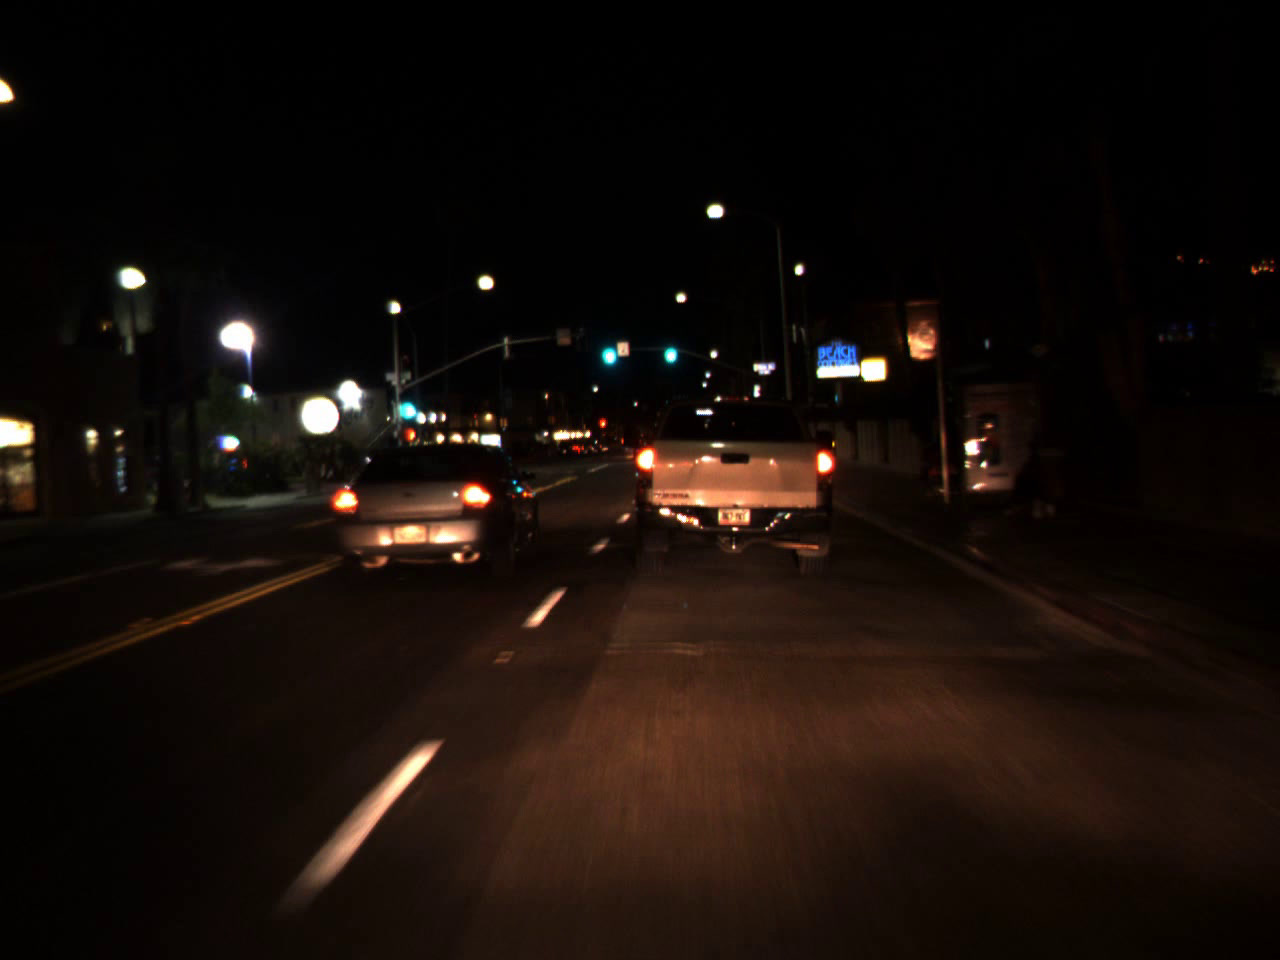go: (388, 374, 425, 431), (596, 328, 619, 370), (660, 332, 676, 365)
